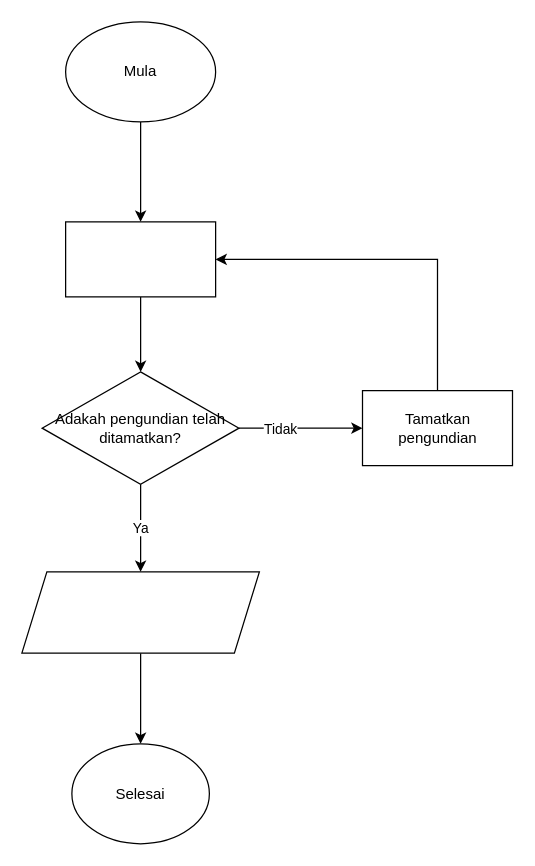
Image size: 535x866. Some labels were removed from this diagram. Here are the shapes that lost their labels. From the top down, the centre of each, then its label:
At (140,259): "Mendapatkan jumlah undian".
At (140,612): "Papar jumlah undian".
